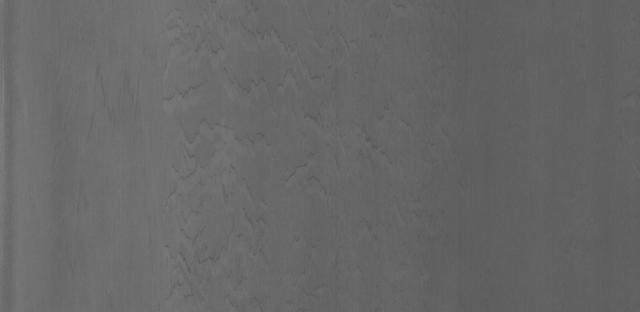silk_spot: (140, 19, 372, 287)
